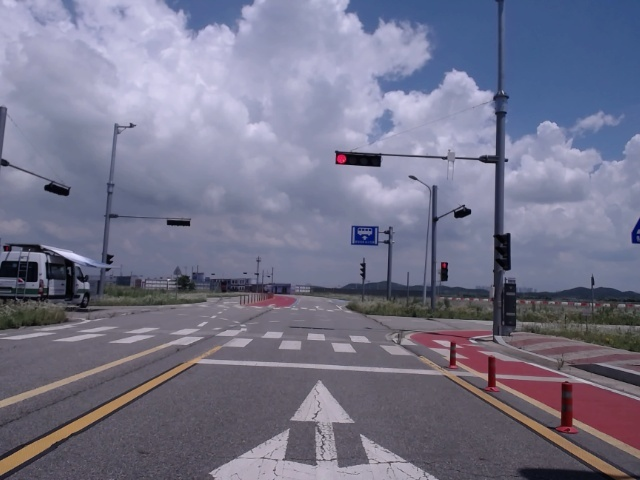red_4: (336, 153, 381, 167)
